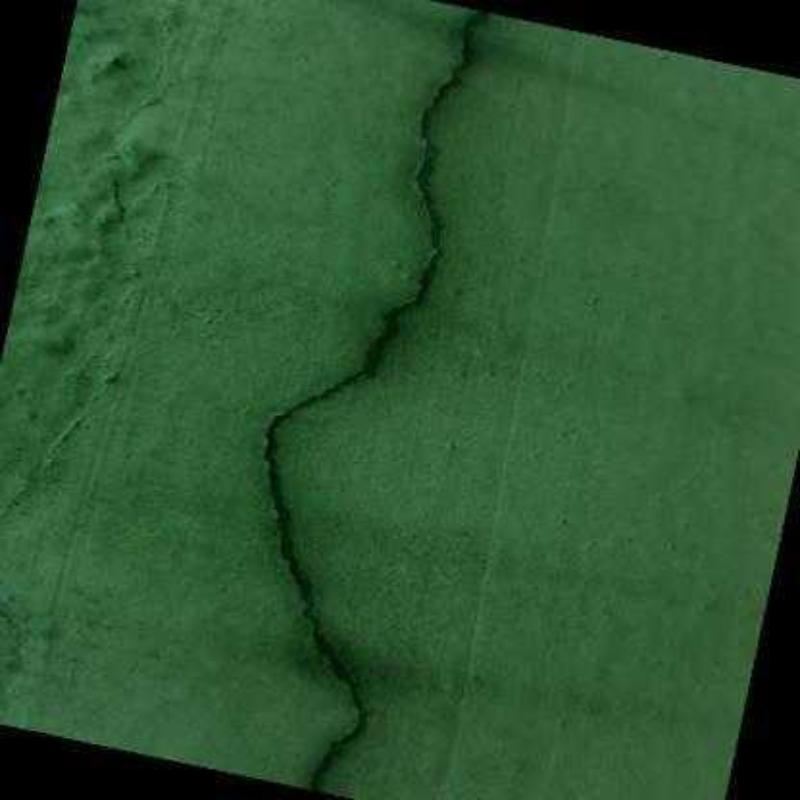pothole: (265, 10, 490, 793)
